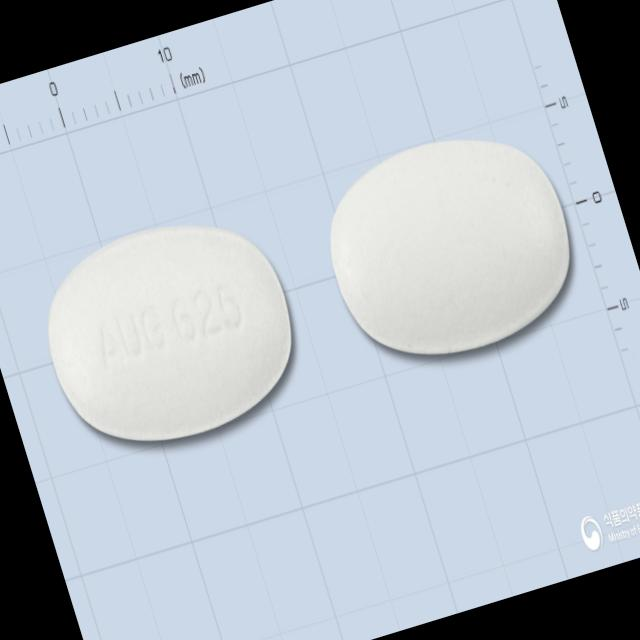Ilsung Augmentin: (23, 195, 317, 470)
